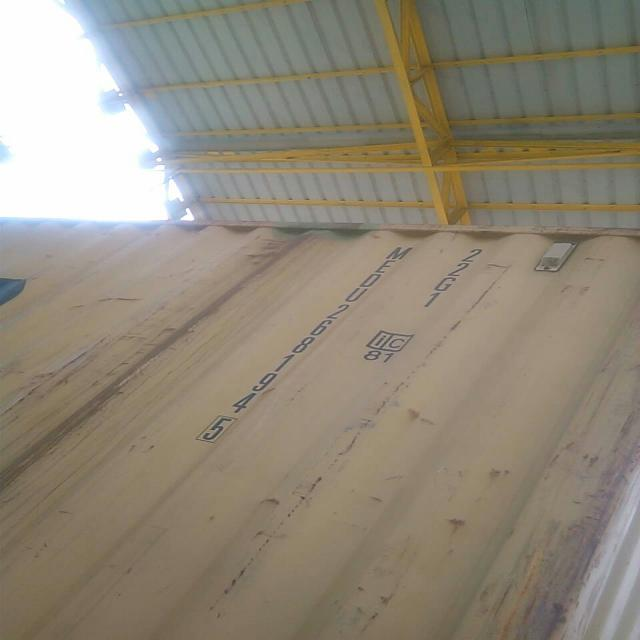rust: (1, 304, 230, 490), (509, 435, 640, 640), (243, 229, 315, 275)
